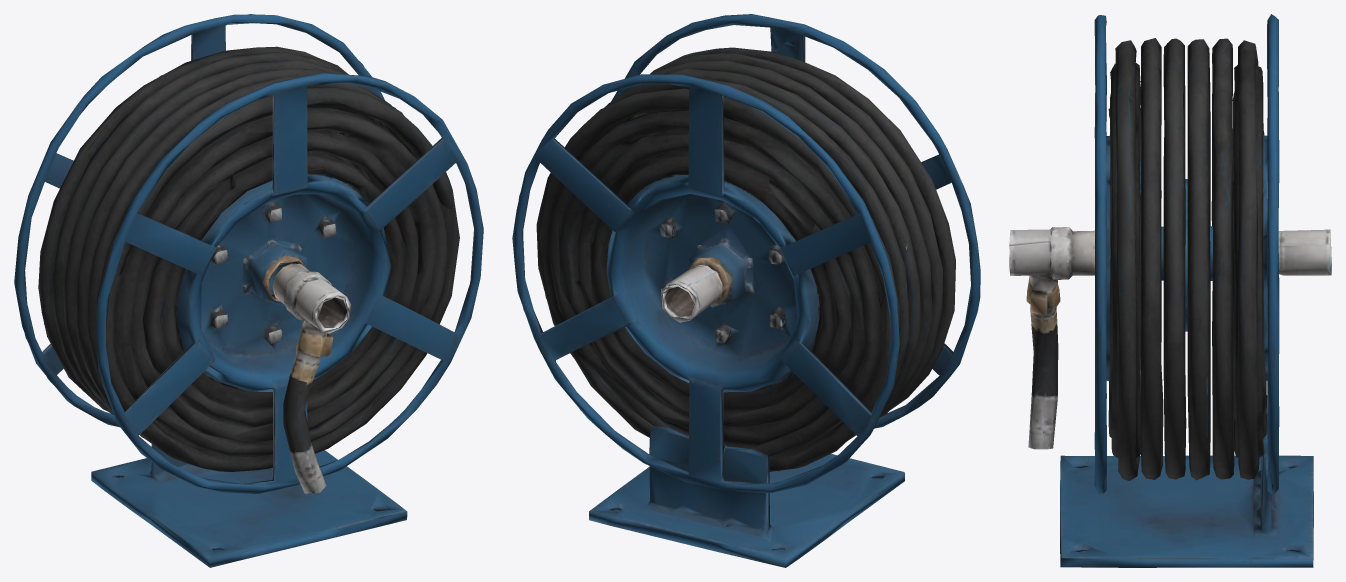
Rendered from reel.glb.
The picture shows the model from 3 angles, left to right: view 1: azimuth 30°, elevation 25°; view 2: azimuth 150°, elevation 25°; view 3: azimuth 270°, elevation 25°; orthographic projection. The views are drawn at different scales.
Visible parts, largest first — view 1: geom0; view 2: geom0; view 3: geom0.
Boxes of the visible parts, <box> form: geom0: <box>14,14,483,567</box>; geom0: <box>512,14,980,567</box>; geom0: <box>1009,14,1331,567</box>.
Bounding box in the file's own units: 0.3777 × 0.42 × 0.256.
1 material, 1 textured.
